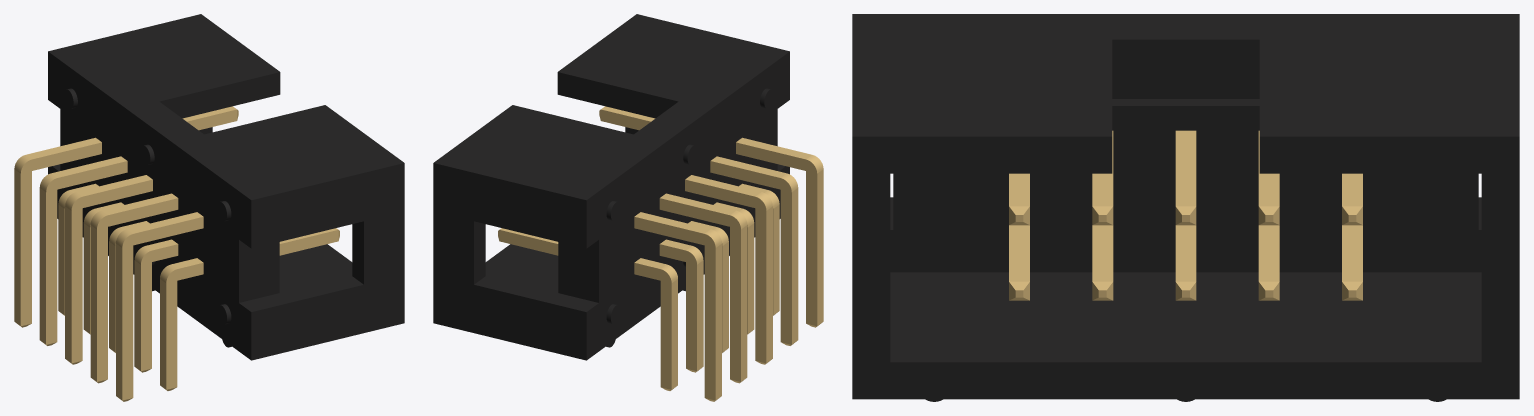
The model's file is kc-idc-header_2x05_p2.54mm_horizontal.glb.
3 views of the same model, side by side, from view 1: azimuth 30°, elevation 25°; view 2: azimuth 150°, elevation 25°; view 3: azimuth 270°, elevation 25° (orthographic). The views are drawn at different scales.
Parts seen in each view (by area): view 1: 0_0_0_0, 0.75_0.5_0.25_0.9; view 2: 0_0_0_0, 0.75_0.5_0.25_0.9; view 3: 0_0_0_0, 0.75_0.5_0.25_0.9.
Boxes of the visible parts, x1,y1,x2,y2 form: 0_0_0_0: (48, 14, 404, 360); 0.75_0.5_0.25_0.9: (14, 106, 339, 401); 0_0_0_0: (433, 14, 789, 360); 0.75_0.5_0.25_0.9: (498, 106, 823, 401); 0_0_0_0: (852, 14, 1519, 401); 0.75_0.5_0.25_0.9: (1009, 130, 1362, 300).
Bounding box in the file's own units: 1.35 × 1.21 × 2.04.
